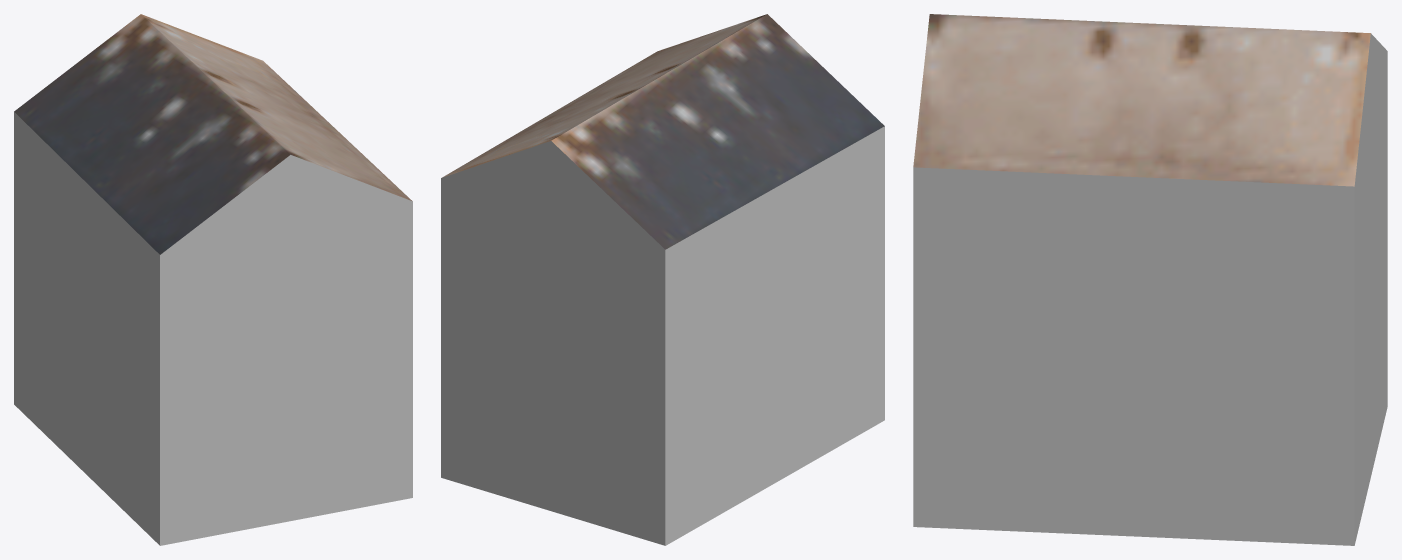
The model's file is DEBW_0010007TxgU.gltf.
3 views of the same model, side by side, from view 1: azimuth 30°, elevation 25°; view 2: azimuth 150°, elevation 25°; view 3: azimuth 270°, elevation 25° (orthographic). The views are drawn at different scales.
Visible parts, largest first — view 1: Z_UP; view 2: Z_UP; view 3: Z_UP.
Boxes of the visible parts, box(x1,y1,x2,y2) form: Z_UP: box(14, 14, 412, 545); Z_UP: box(441, 14, 884, 545); Z_UP: box(913, 14, 1387, 545).
Size of the model in its own units: 13.77 by 17.79 by 17.21.
Materials: 2 (1 with a texture image).
